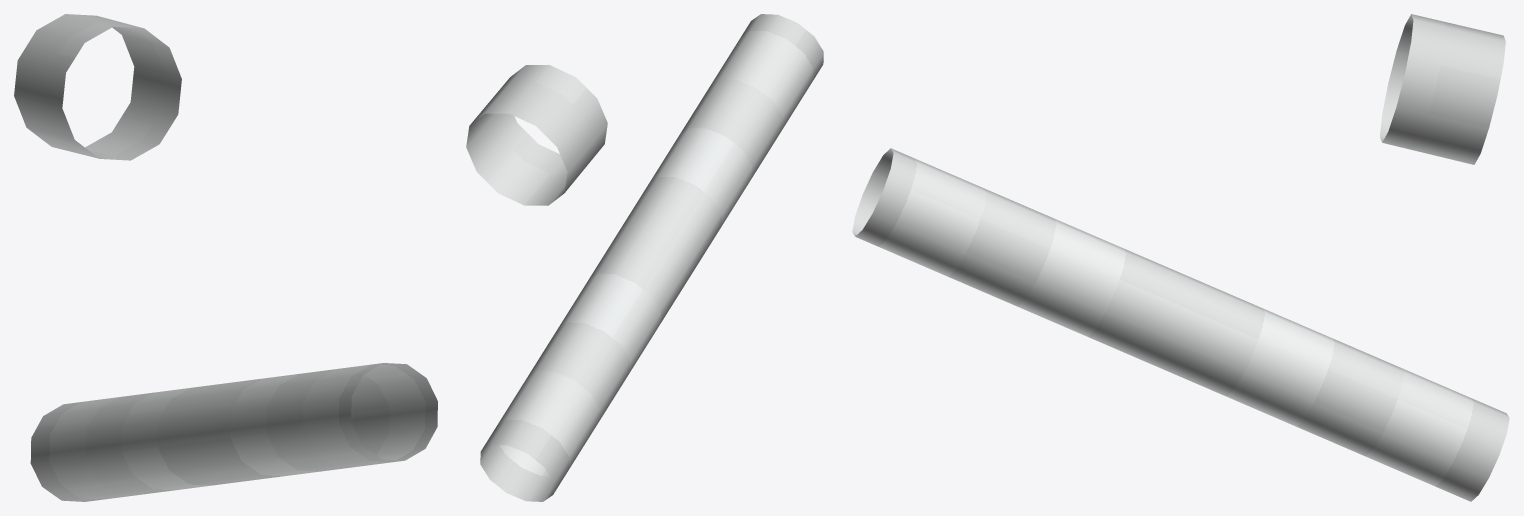
Rendered from luminairearm_truss15ftstraightdouble_c12.obj.
3 renders of one model, left to right at view 1: azimuth 30°, elevation 25°; view 2: azimuth 150°, elevation 25°; view 3: azimuth 270°, elevation 25°, orthographic. The views are drawn at different scales.
Parts seen in each view (by area): view 1: luminairearm_truss15ftstraightdouble_c12; view 2: luminairearm_truss15ftstraightdouble_c12; view 3: luminairearm_truss15ftstraightdouble_c12.
Boxes of the visible parts, <box> form: luminairearm_truss15ftstraightdouble_c12: <box>14,14,437,501</box>; luminairearm_truss15ftstraightdouble_c12: <box>466,14,823,501</box>; luminairearm_truss15ftstraightdouble_c12: <box>852,14,1509,501</box>.
Size of the model in its own units: 0.2167 by 0.8541 by 1.07.
